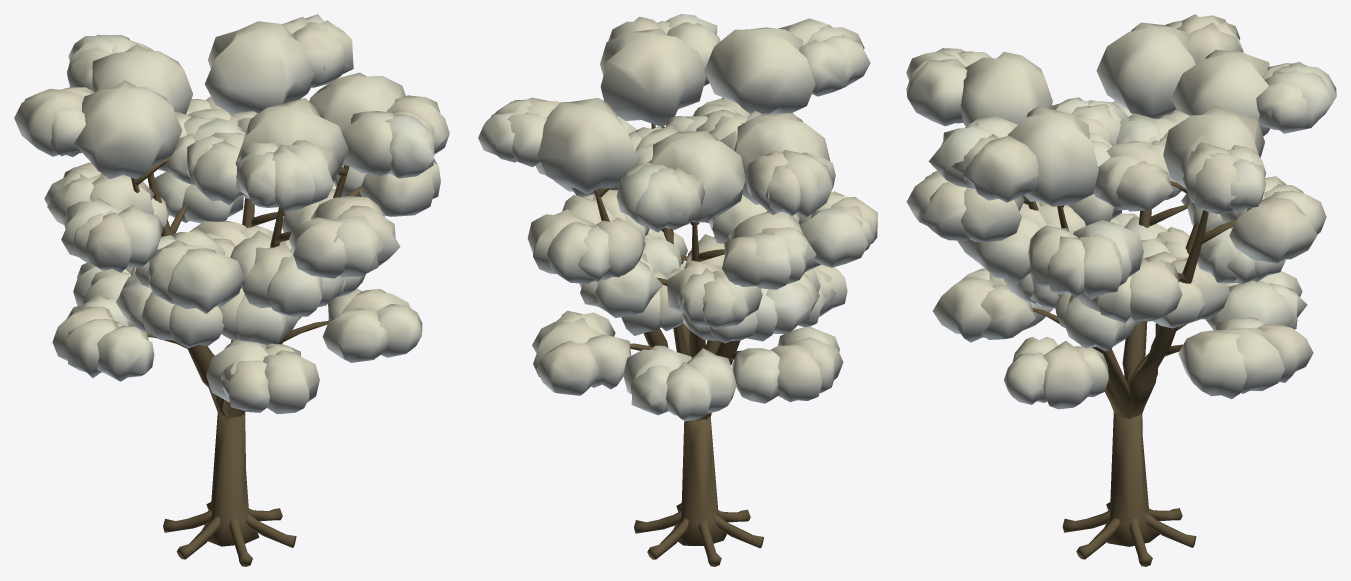
The picture shows the model from 3 angles, left to right: view 1: azimuth 30°, elevation 25°; view 2: azimuth 150°, elevation 25°; view 3: azimuth 270°, elevation 25°; orthographic projection. The views are drawn at different scales.
Visible parts, largest first — view 1: crown, trunk; view 2: crown, trunk; view 3: crown, trunk.
Boxes of the visible parts, box(x1,y1,x2,y2) form: crown: box(14, 14, 449, 414); trunk: box(131, 156, 361, 566); crown: box(478, 14, 877, 421); trunk: box(594, 123, 768, 566); crown: box(906, 14, 1336, 409); trunk: box(1022, 181, 1236, 566).
Bounding box in the file's own units: 10.99 × 14.15 × 11.51.
